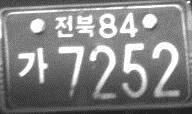2: (152, 39, 182, 99), (88, 43, 119, 101)
4: (120, 11, 139, 39)
5: (120, 41, 149, 100)
7: (56, 44, 87, 99)
8: (97, 11, 118, 40)
가: (16, 45, 48, 84)
전북_O: (54, 13, 95, 39)
